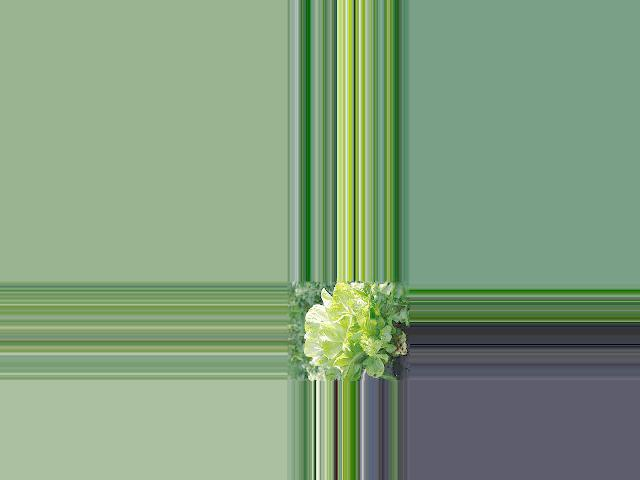lettuce: (305, 291, 389, 377)
